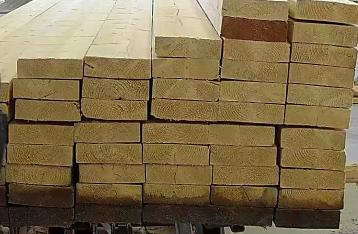Wood-Plank: (289, 19, 358, 46), (290, 0, 358, 24), (290, 63, 354, 88), (224, 38, 290, 62), (8, 122, 74, 146), (8, 184, 74, 208), (223, 18, 288, 42), (288, 84, 353, 108), (292, 44, 356, 68), (153, 58, 220, 80), (153, 80, 220, 102), (153, 35, 220, 57), (220, 82, 286, 104), (15, 100, 81, 122), (212, 186, 278, 208), (142, 205, 211, 226), (223, 60, 288, 82), (83, 78, 148, 100), (220, 102, 284, 124), (282, 128, 346, 150), (287, 106, 350, 128), (74, 122, 140, 143), (76, 185, 142, 206), (281, 149, 345, 170), (151, 100, 218, 120), (209, 126, 276, 146), (76, 144, 143, 164), (146, 166, 213, 186), (84, 58, 150, 78), (223, 0, 289, 20), (142, 124, 208, 144), (211, 146, 277, 166), (8, 208, 74, 228), (144, 186, 210, 206), (275, 209, 341, 229), (13, 80, 78, 100), (7, 146, 72, 166), (213, 166, 278, 186), (281, 170, 345, 190), (6, 166, 70, 186), (280, 190, 344, 210), (79, 165, 146, 184), (81, 100, 147, 119), (17, 59, 82, 78), (143, 146, 209, 164), (211, 207, 272, 226), (75, 207, 141, 224)
